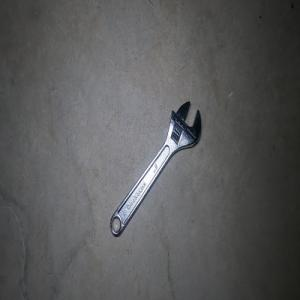Wrench: (110, 101, 201, 237)
